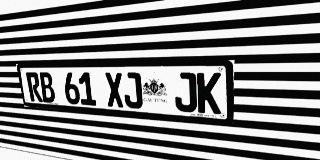1: (77, 72, 96, 106)
6: (62, 72, 81, 105)
B: (38, 72, 56, 103)
J: (174, 72, 197, 113), (122, 72, 143, 109)
K: (197, 72, 221, 114)
R: (26, 72, 43, 102)
X: (104, 72, 125, 108)
